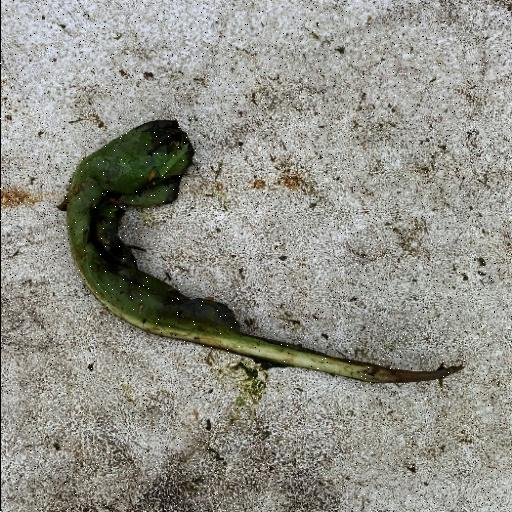Waste: (60, 118, 466, 390)
